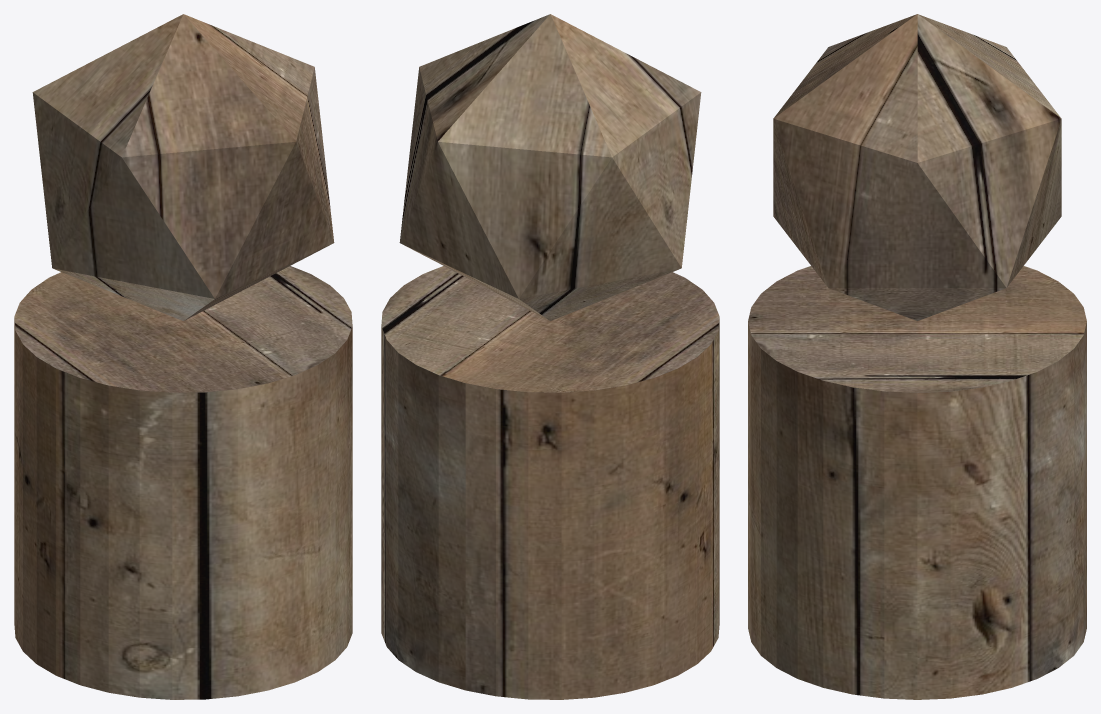
The model's file is Queen.glb.
3 views of the same model, side by side, from view 1: azimuth 30°, elevation 25°; view 2: azimuth 150°, elevation 25°; view 3: azimuth 270°, elevation 25° (orthographic).
Visible parts, largest first — view 1: Node1, Node2; view 2: Node1, Node2; view 3: Node1, Node2.
Boxes of the visible parts, <box> form: Node1: <box>14,266,352,699</box>; Node2: <box>32,14,334,320</box>; Node1: <box>381,266,719,699</box>; Node2: <box>399,14,701,320</box>; Node1: <box>748,266,1086,699</box>; Node2: <box>773,14,1061,320</box>.
Bounding box in the file's own units: 2 × 4 × 2.
1 material, 1 textured.
